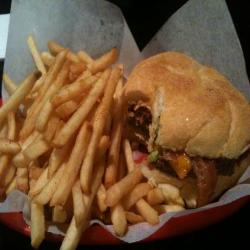burger: (121, 47, 250, 218)
fries: (1, 46, 148, 230)
